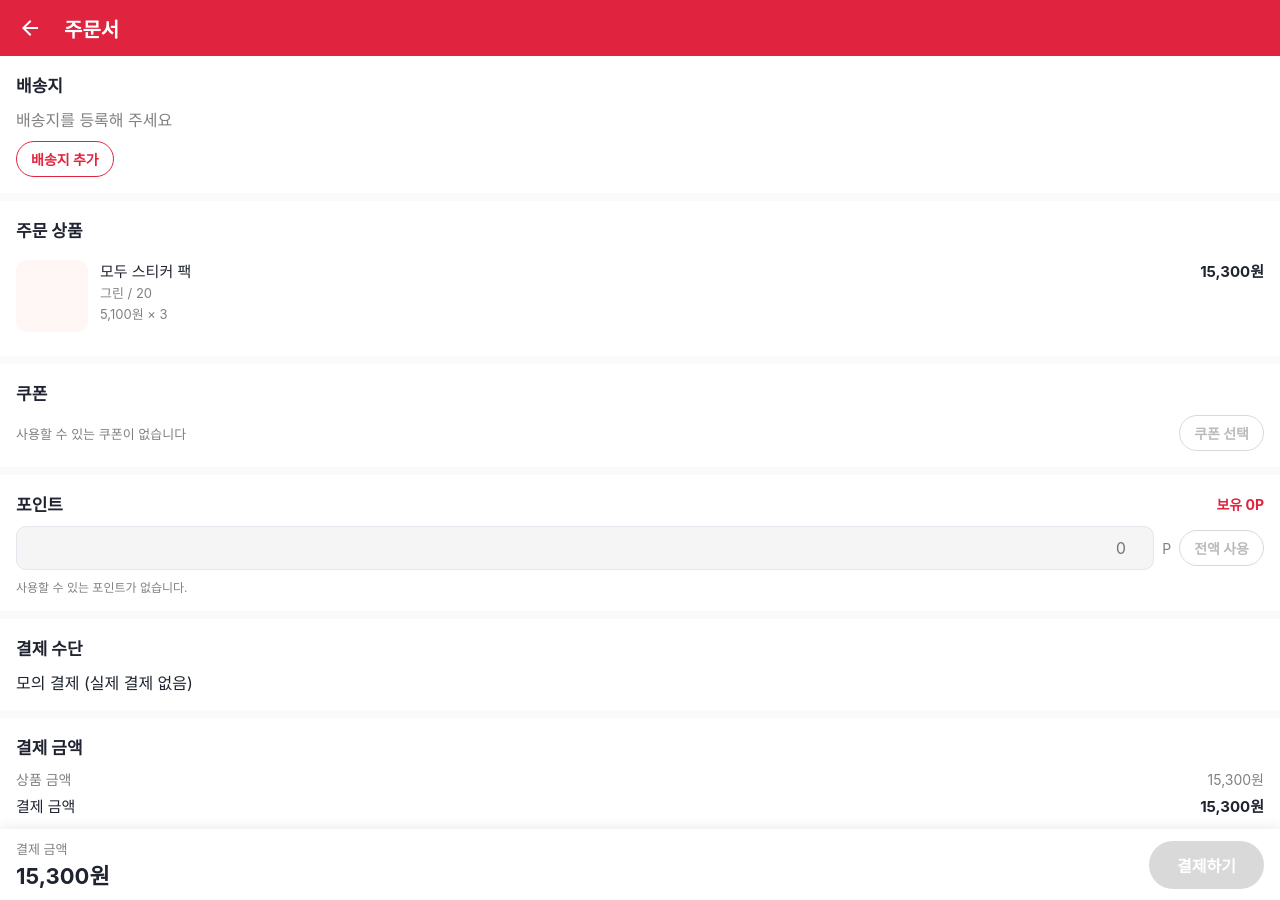
it: CheckoutPage › builds a single line for buy-now and requires an address
Check: the text "배송지를 등록해 주세요" is shown, box [16,110,172,130]
Check: the text "5,100원 × 3" is shown, box [100,306,168,322]
Click the button "배송지 추가" at (65, 159), box [16,141,114,177]
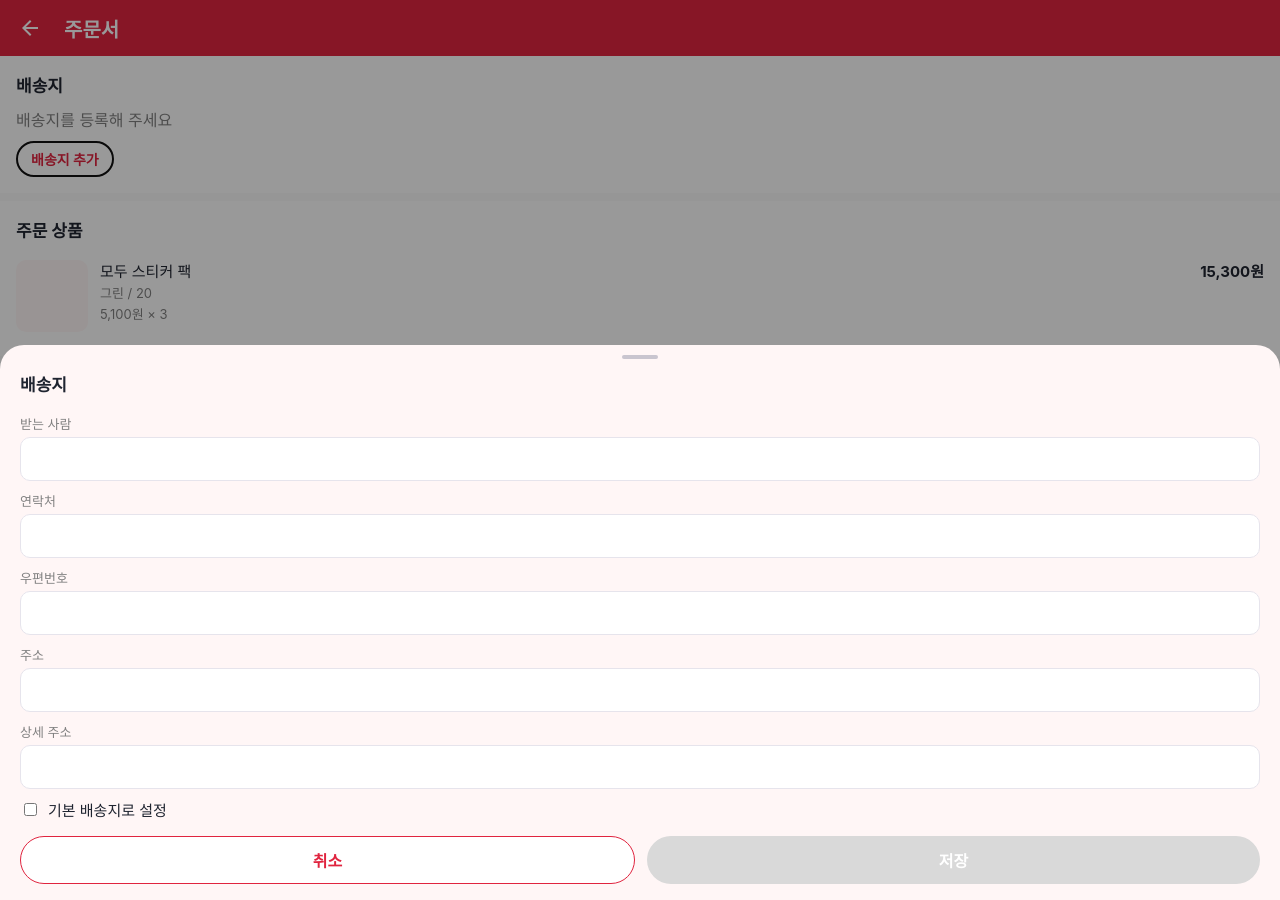
Type "임준섭" into the field labelled "받는 사람" at (640, 459), box [20,437,1260,481]
Type "010-1234-5678" into the field labelled "연락처" at (640, 536), box [20,514,1260,558]
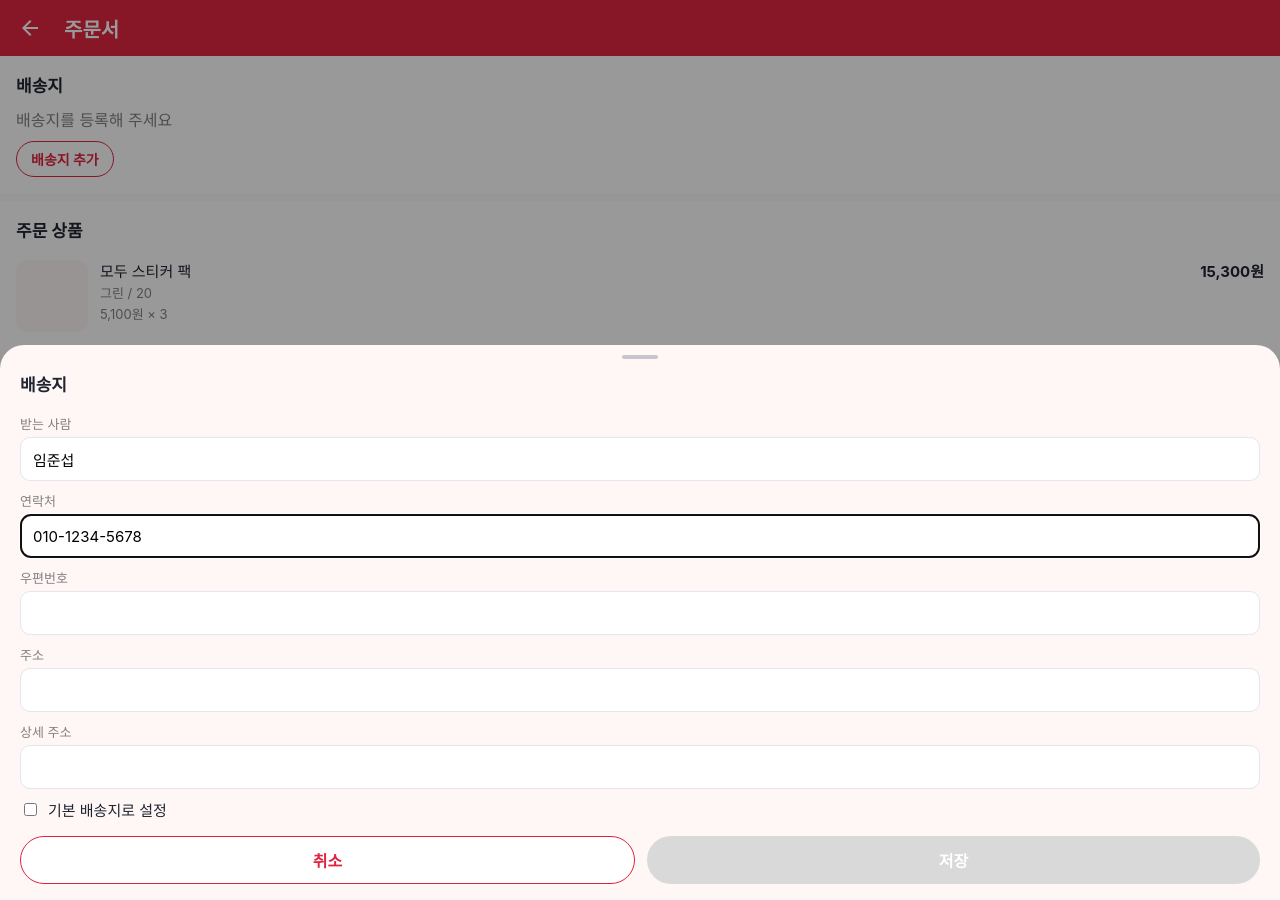
Type "0623" into the field labelled "우편번호" at (640, 613), box [20,591,1260,635]
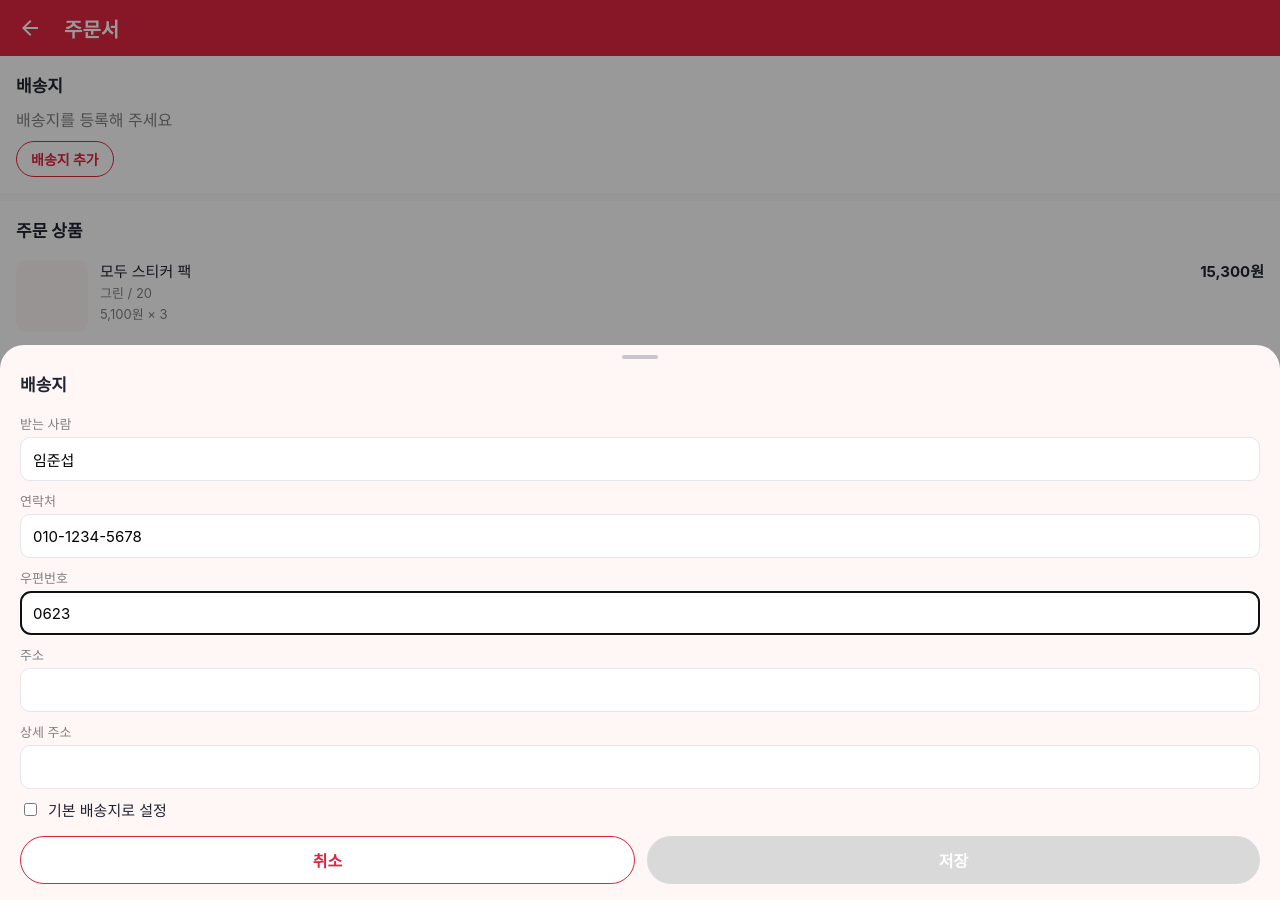
Type "서울 강남구 테헤란로 1" into the field labelled "주소" at (640, 690), box [20,668,1260,712]
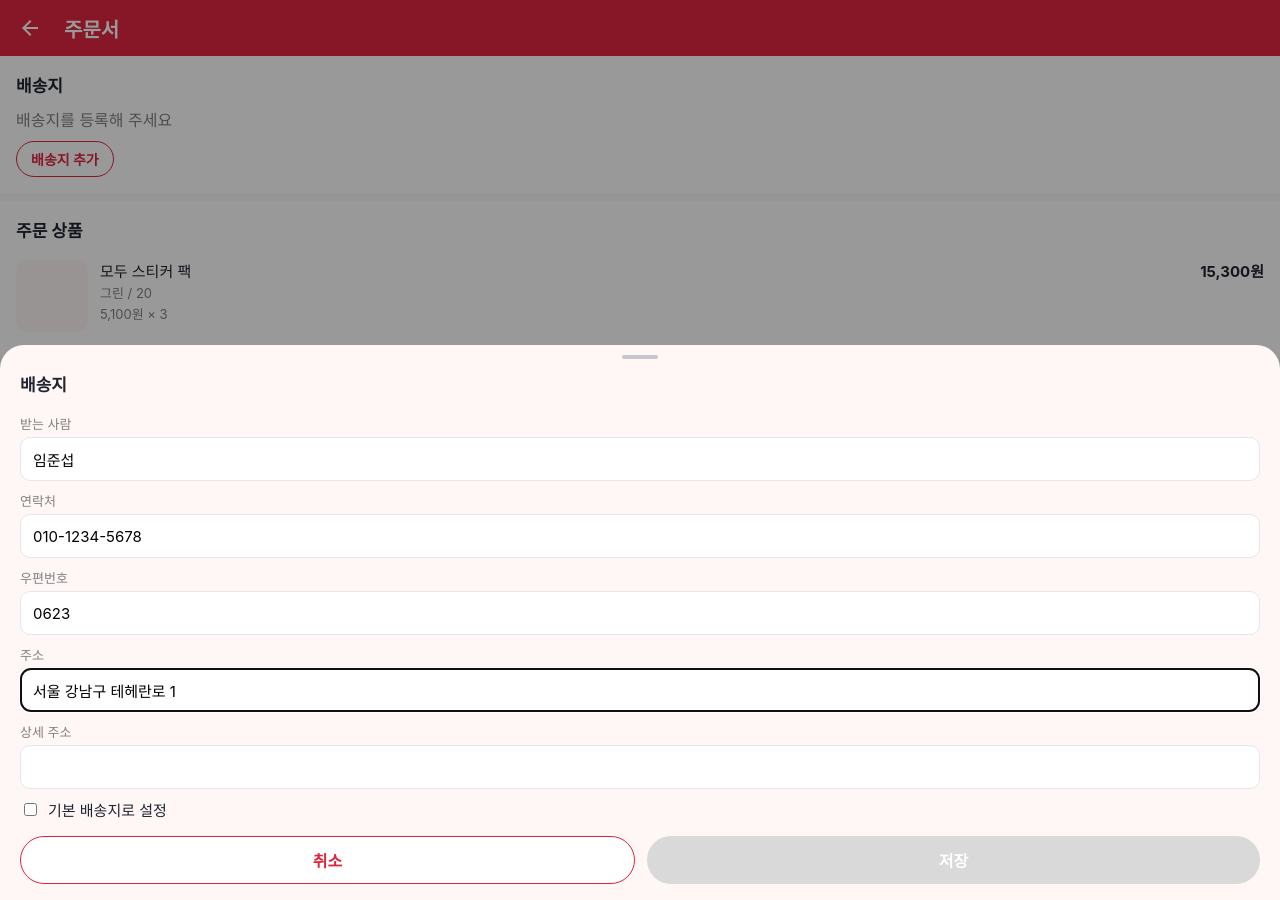
Check: the button "저장" is disabled, box [647,836,1260,884]
Type "6" into the field labelled "우편번호" at (640, 613), box [20,591,1260,635]
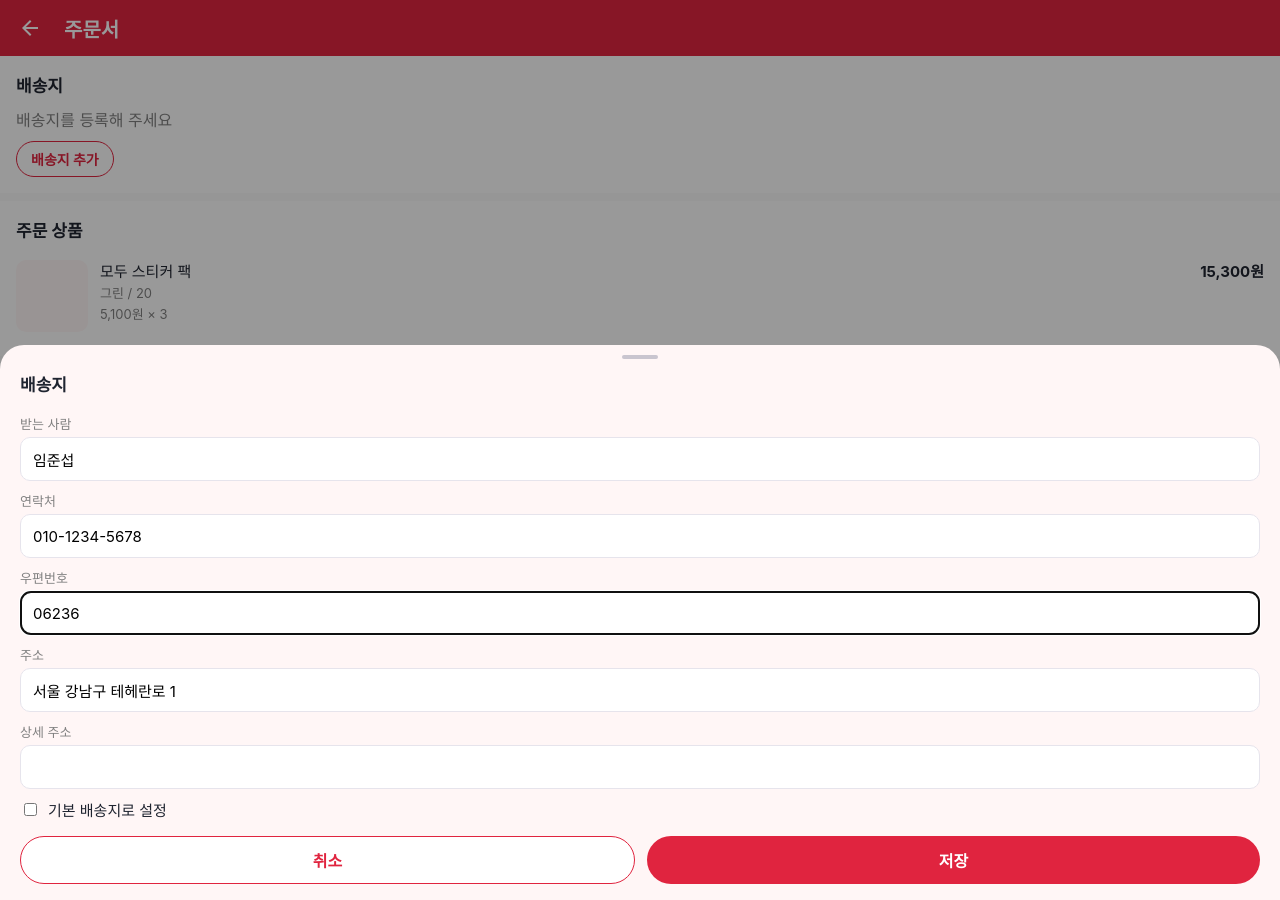
Click the button "저장" at (954, 860), box [647,836,1260,884]
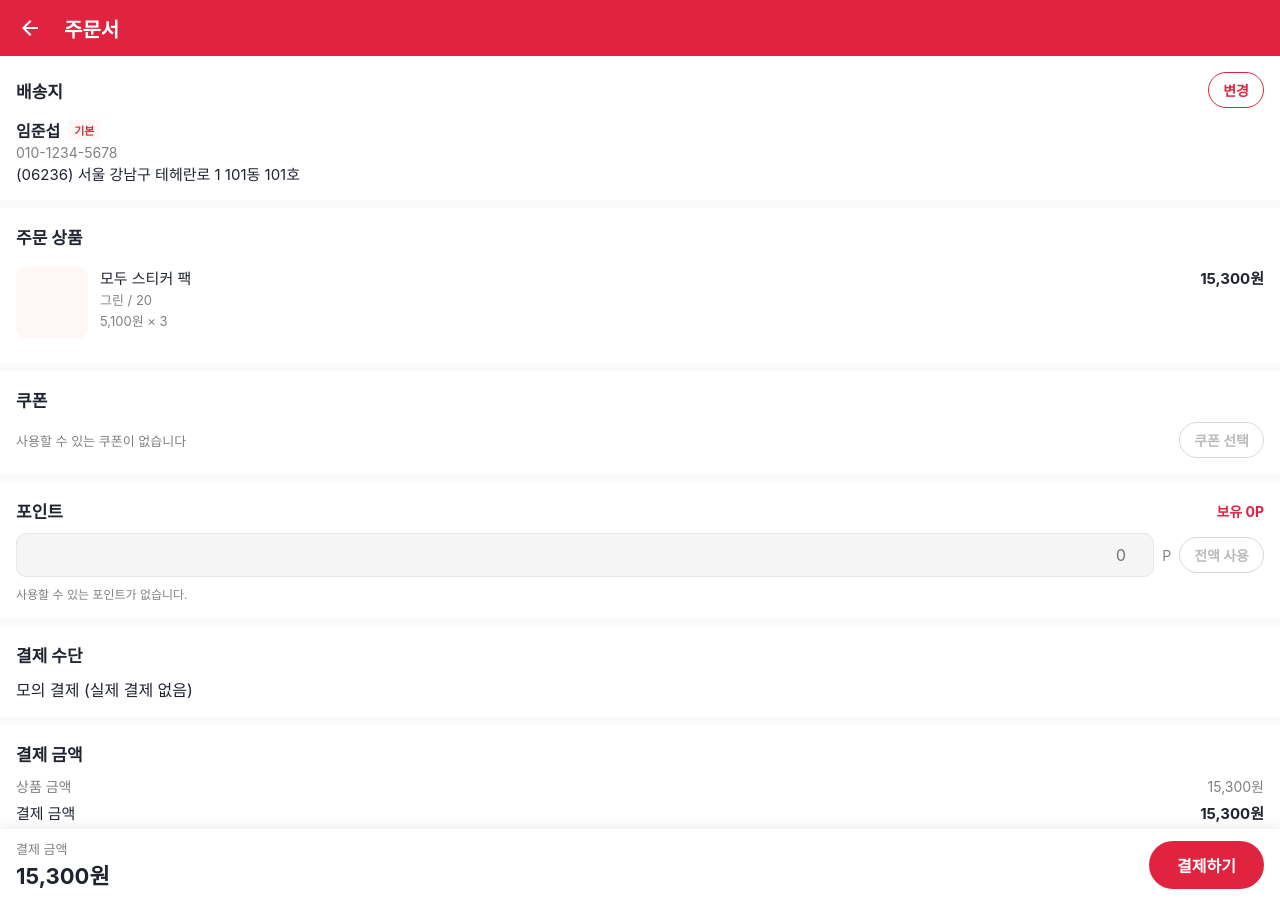
Check: the text "임준섭" is shown, box [16,121,60,141]
Check: the button "결제하기" is enabled, box [1149,840,1264,888]
